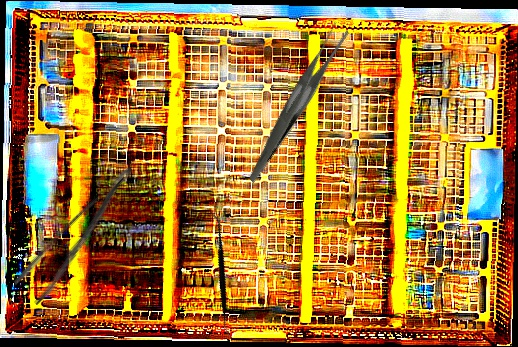Dressing Forceps: (208, 19, 383, 183), (10, 163, 154, 307)
Spatula Surgical: (160, 210, 282, 341)
